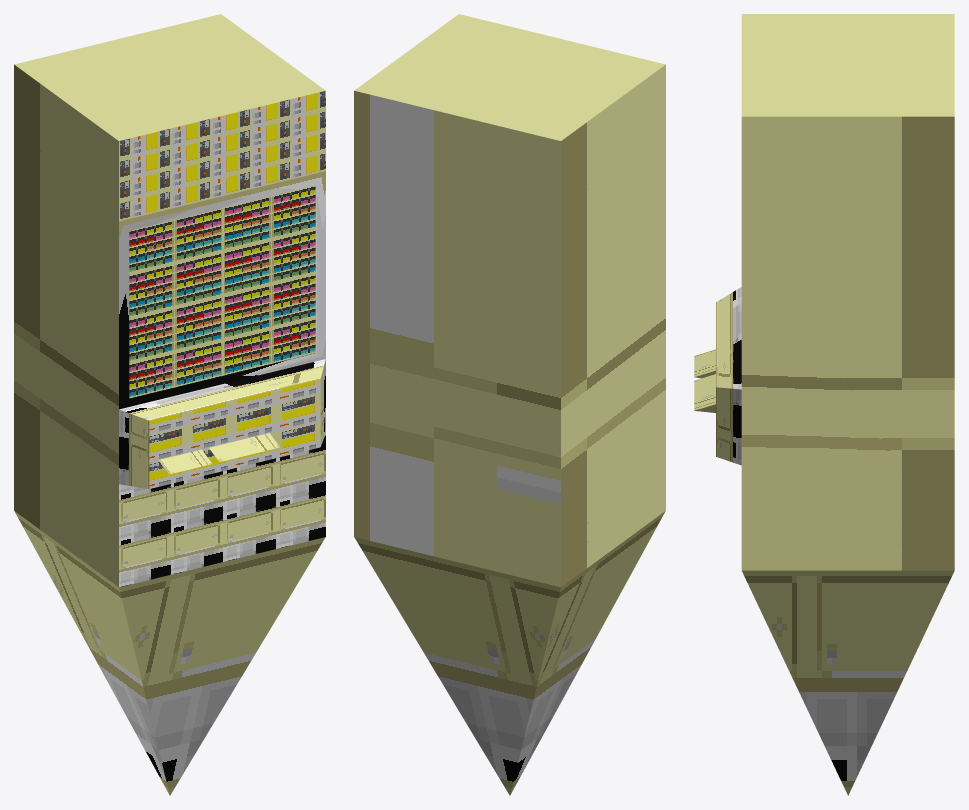
3 renders of one model, left to right at view 1: azimuth 30°, elevation 25°; view 2: azimuth 150°, elevation 25°; view 3: azimuth 270°, elevation 25°, orthographic.
Visible parts, largest first — view 1: 3753kg_sh0_00; view 2: 3753kg_sh0_00; view 3: 3753kg_sh0_00.
Part boxes in pixels (x1,y1,x2,y2): 3753kg_sh0_00: [14, 14, 325, 795]; 3753kg_sh0_00: [354, 14, 665, 795]; 3753kg_sh0_00: [694, 14, 954, 795].
Bounding box in the file's own units: 0.8633 × 2.86 × 0.9258.
3 materials, 3 textured.
